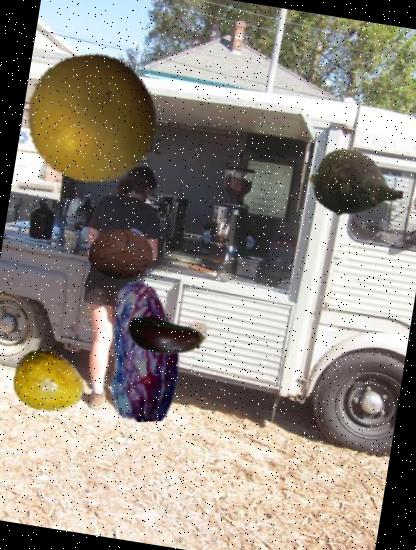Beetroot: (298, 126, 414, 242)
Cocos: (84, 218, 158, 292)
Dates: (64, 272, 224, 432)
Eggplant: (120, 292, 212, 385)
Grapefruit: (15, 41, 168, 194)
Guava: (8, 339, 92, 423)
